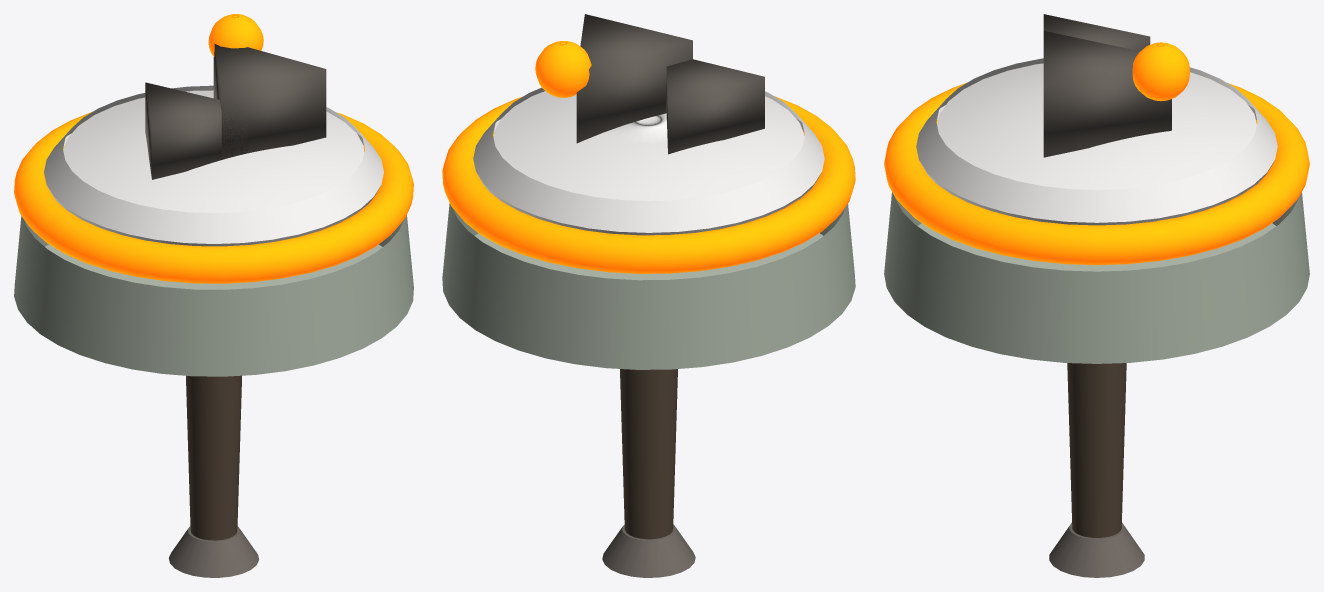
Rendered from poi-viewpoint.glb.
3 views of the same model, side by side, from view 1: azimuth 30°, elevation 25°; view 2: azimuth 150°, elevation 25°; view 3: azimuth 270°, elevation 25° (orthographic). The views are drawn at different scales.
Visible parts, largest first — view 1: viewpoint_head, viewpoint_ring, viewpoint_plate_dome, viewpoint_plate_bevel, viewpoint_peak, viewpoint_stem, viewpoint_ridge, viewpoint_foot, viewpoint_sun, viewpoint_collar, viewpoint_plate_wall; view 2: viewpoint_head, viewpoint_ring, viewpoint_plate_dome, viewpoint_plate_bevel, viewpoint_peak, viewpoint_stem, viewpoint_ridge, viewpoint_foot, viewpoint_sun, viewpoint_collar, viewpoint_plate_wall; view 3: viewpoint_head, viewpoint_ring, viewpoint_plate_dome, viewpoint_plate_bevel, viewpoint_peak, viewpoint_stem, viewpoint_foot, viewpoint_sun, viewpoint_ridge, viewpoint_collar, viewpoint_plate_wall.
Boxes of the visible parts, <box> form: viewpoint_head: <box>14,215,413,376</box>; viewpoint_ring: <box>14,111,413,283</box>; viewpoint_plate_dome: <box>63,90,364,213</box>; viewpoint_plate_bevel: <box>44,85,383,243</box>; viewpoint_peak: <box>213,43,326,159</box>; viewpoint_stem: <box>186,375,241,540</box>; viewpoint_ridge: <box>145,82,247,179</box>; viewpoint_foot: <box>169,526,258,577</box>; viewpoint_sun: <box>208,14,263,56</box>; viewpoint_collar: <box>130,276,297,289</box>; viewpoint_plate_wall: <box>47,133,380,246</box>; viewpoint_head: <box>442,203,855,369</box>; viewpoint_ring: <box>442,96,855,273</box>; viewpoint_plate_dome: <box>493,91,804,200</box>; viewpoint_plate_bevel: <box>473,87,824,232</box>; viewpoint_peak: <box>576,14,692,143</box>; viewpoint_stem: <box>620,369,677,539</box>; viewpoint_ridge: <box>666,59,764,154</box>; viewpoint_foot: <box>602,524,695,577</box>; viewpoint_sun: <box>535,41,591,97</box>; viewpoint_collar: <box>562,266,735,280</box>; viewpoint_plate_wall: <box>477,119,820,235</box>; viewpoint_head: <box>884,192,1309,363</box>; viewpoint_ring: <box>884,83,1309,265</box>; viewpoint_plate_dome: <box>937,63,1256,189</box>; viewpoint_plate_bevel: <box>916,58,1277,222</box>; viewpoint_peak: <box>1043,31,1171,157</box>; viewpoint_stem: <box>1067,363,1126,537</box>; viewpoint_foot: <box>1049,523,1144,577</box>; viewpoint_sun: <box>1132,42,1189,101</box>; viewpoint_ridge: <box>1043,14,1150,51</box>; viewpoint_collar: <box>1007,257,1186,271</box>; viewpoint_plate_wall: <box>919,105,1274,225</box>.
Size of the model in its own units: 0.796 by 1.11 by 0.796.
